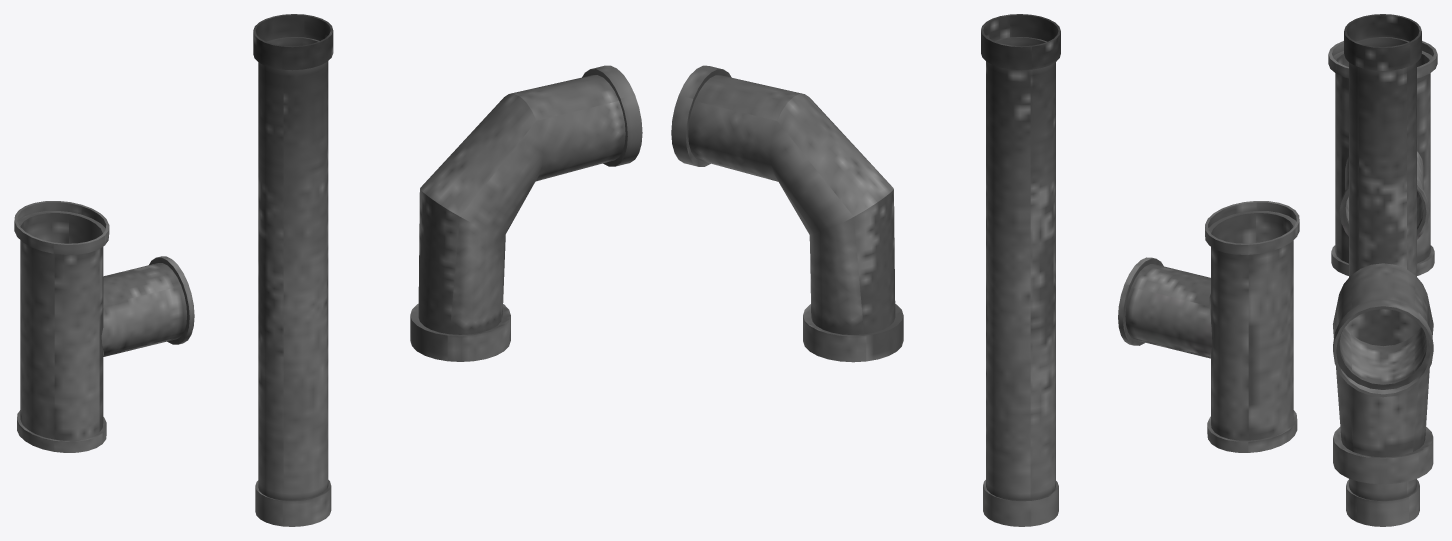
The model's file is pipe.fbx.
The picture shows the model from 3 angles, left to right: view 1: azimuth 30°, elevation 25°; view 2: azimuth 150°, elevation 25°; view 3: azimuth 270°, elevation 25°; orthographic projection.
Visible parts, largest first — view 1: pipe.002, pipe.001, pipe; view 2: pipe.002, pipe.001, pipe; view 3: pipe.002, pipe.001, pipe.
Boxes of the visible parts, x1,y1,x2,y2 form: pipe.002: (253, 14, 333, 526); pipe.001: (410, 65, 642, 361); pipe: (14, 201, 194, 452); pipe.002: (981, 14, 1060, 526); pipe.001: (671, 65, 903, 362); pipe: (1118, 201, 1299, 452); pipe.002: (1344, 14, 1421, 526); pipe.001: (1333, 263, 1433, 484); pipe: (1328, 41, 1437, 275).
Bounding box in the file's own units: 121 × 93.53 × 19.29.
